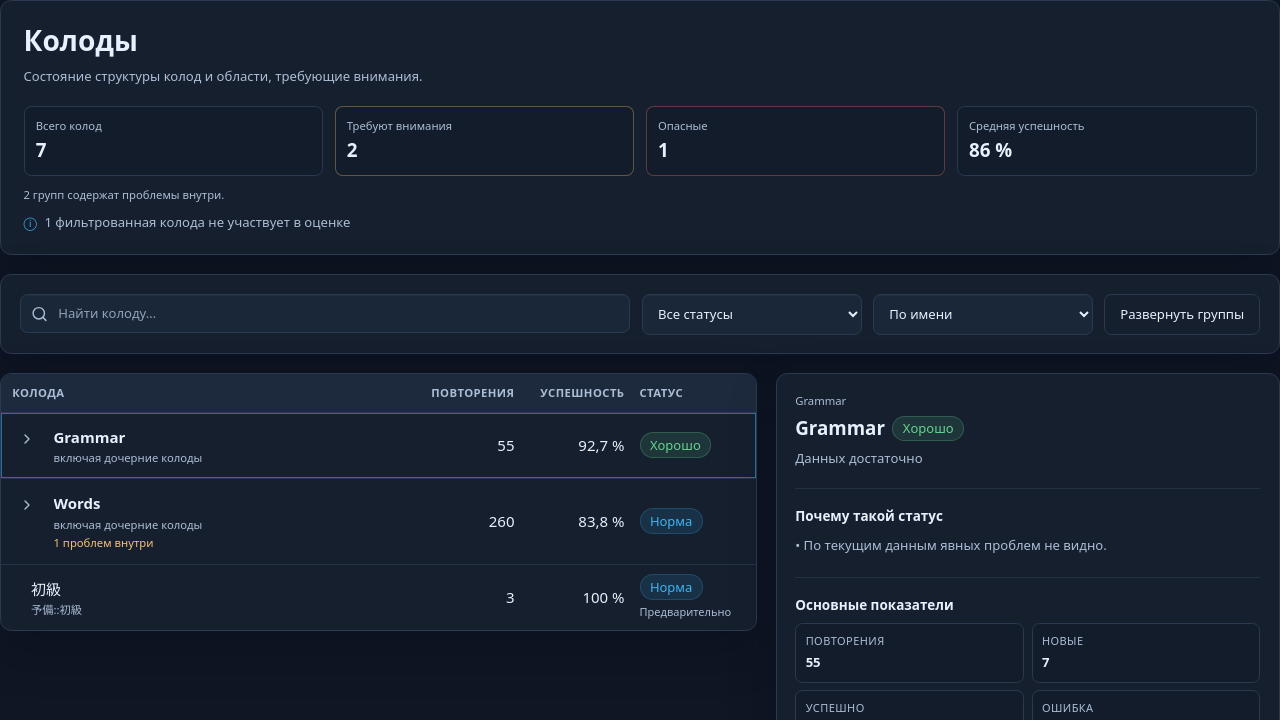
Scenario: Decks v2 › shows roots collapsed, selects the first alphabetical root, and separates disclosure from selection
Click the button named "Развернуть Words" at {"x": 27, "y": 505}, box [12, 490, 42, 520]
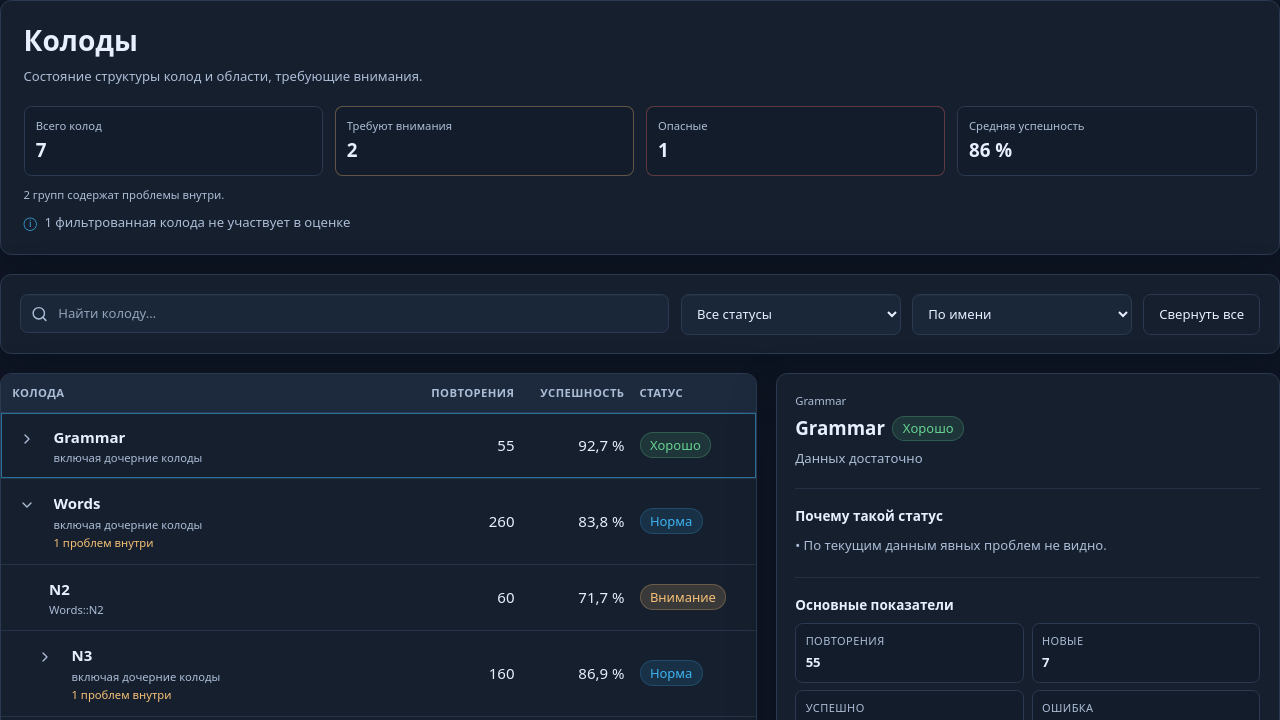
Now the button named "Свернуть Words" is expanded, box [12, 490, 42, 520]
Now the text "N3" is shown, box [72, 645, 92, 665]
